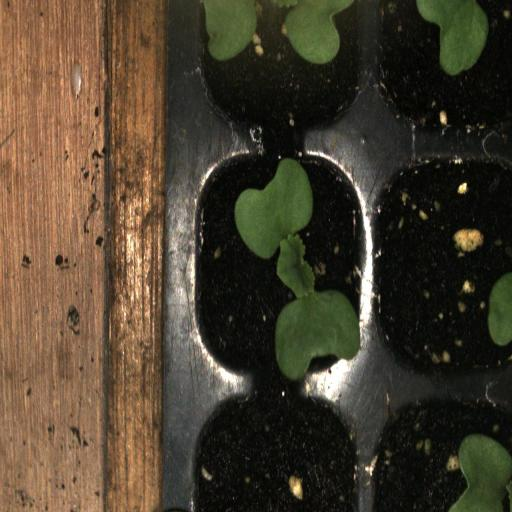seedling: (185, 143, 368, 388)
